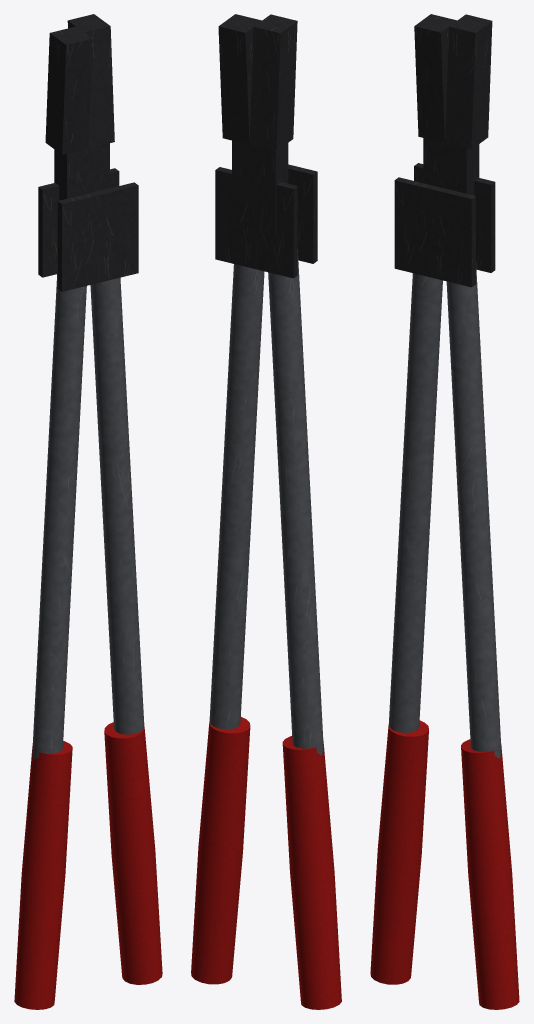
Rendered from wire_cutters.glb.
3 views of the same model, side by side, from view 1: azimuth 30°, elevation 25°; view 2: azimuth 150°, elevation 25°; view 3: azimuth 330°, elevation 25° (orthographic).
Visible parts, largest first — view 1: WireCutters_Clean_handles, WireCutters_Clean_grips, WireCutters_Clean_jaws; view 2: WireCutters_Clean_handles, WireCutters_Clean_grips, WireCutters_Clean_jaws; view 3: WireCutters_Clean_handles, WireCutters_Clean_grips, WireCutters_Clean_jaws.
Boxes of the visible parts, left/top/right/bottom form: WireCutters_Clean_handles: left=32, top=268, right=144, bottom=760; WireCutters_Clean_grips: left=14, top=722, right=162, bottom=1009; WireCutters_Clean_jaws: left=38, top=14, right=138, bottom=291; WireCutters_Clean_handles: left=209, top=249, right=323, bottom=755; WireCutters_Clean_grips: left=191, top=717, right=341, bottom=1009; WireCutters_Clean_jaws: left=215, top=14, right=317, bottom=278; WireCutters_Clean_handles: left=388, top=263, right=501, bottom=758; WireCutters_Clean_grips: left=370, top=720, right=519, bottom=1009; WireCutters_Clean_jaws: left=394, top=14, right=495, bottom=287.
Bounding box in the file's own units: 0.1194 × 0.7611 × 0.047.
3 materials, 3 textured.
